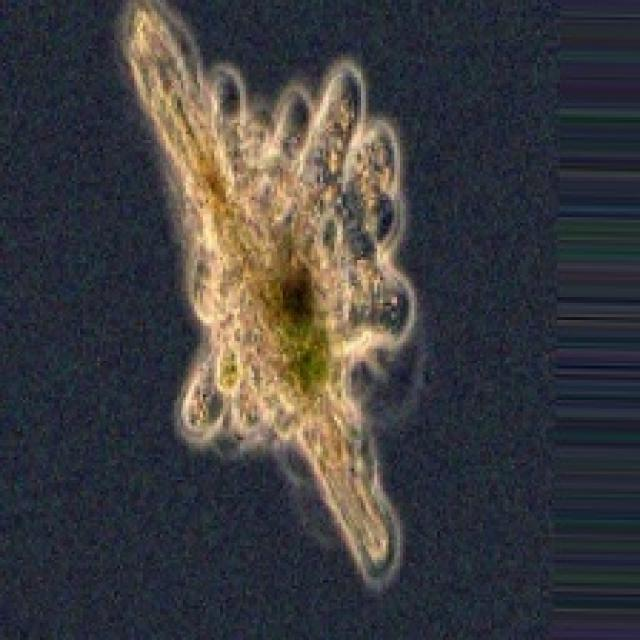Amoeba: (111, 0, 425, 594)
